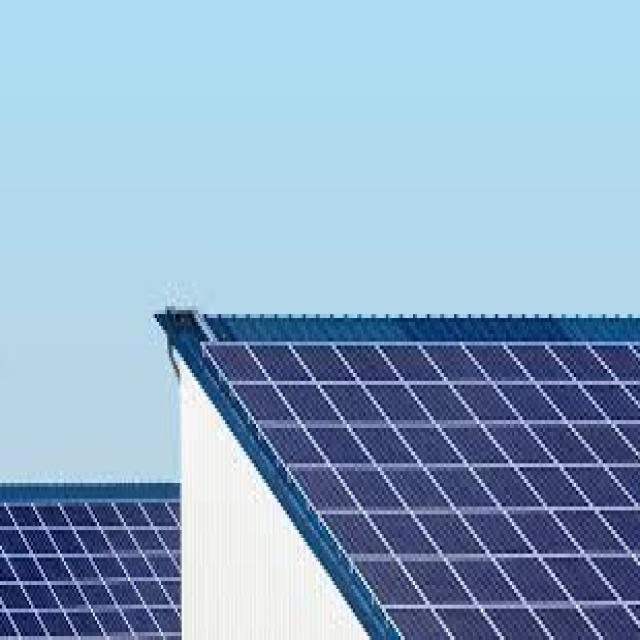clean-solar-panel: (200, 321, 640, 640)
